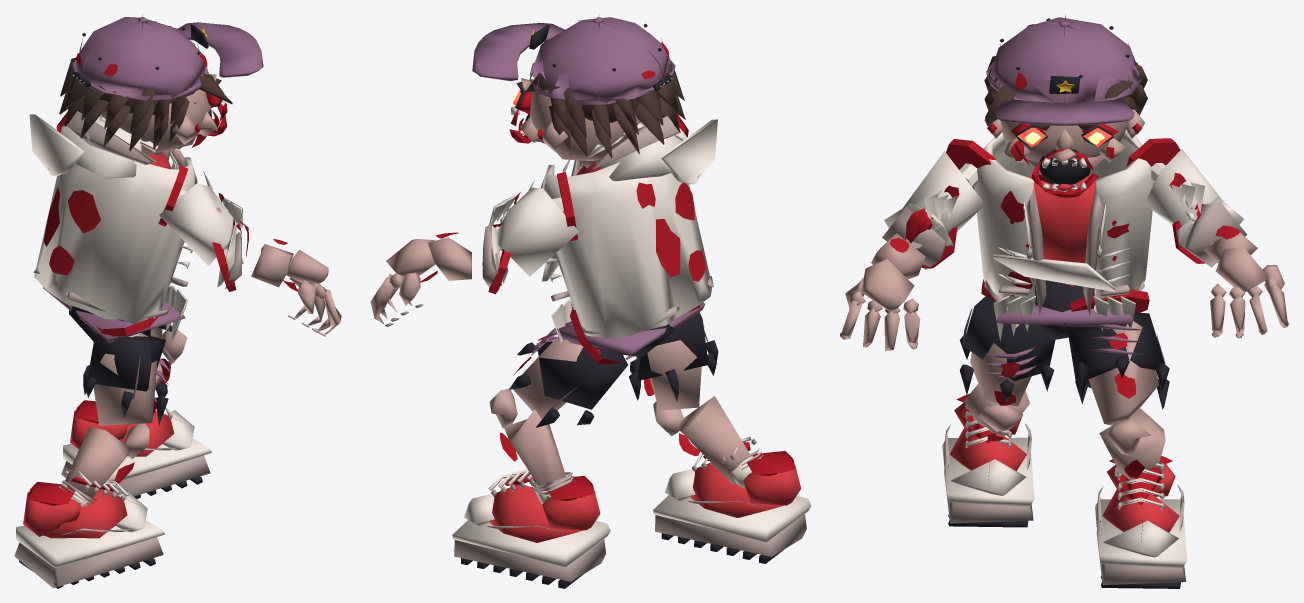
Rendered from inf.sprinter.lod1.glb.
3 views of the same model, side by side, from view 1: azimuth 30°, elevation 25°; view 2: azimuth 150°, elevation 25°; view 3: azimuth 270°, elevation 25° (orthographic). The views are drawn at different scales.
Parts seen in each view (by area): view 1: torso, head, footR, footL, legR, armR, shinR, handR, foreArmR, hip, shinL, stump_armR (+2 smaller); view 2: torso, head, footL, footR, legL, legR, armL, shinR, shinL, handL, foreArmL, hip (+2 smaller); view 3: torso, head, footL, footR, legL, legR, handR, handL, foreArmR, armR, hip, armL (+6 smaller).
Boxes of the visible parts, box(x1,y1,x2,y2) form: torso: box(29, 111, 212, 341); head: box(59, 14, 263, 161); footR: box(14, 469, 164, 588); footL: box(61, 397, 211, 498); legR: box(83, 332, 174, 425); armR: box(159, 183, 242, 265); shinR: box(58, 423, 149, 507); handR: box(283, 249, 341, 336); foreArmR: box(217, 220, 293, 288); hip: box(43, 287, 185, 342); shinL: box(128, 324, 186, 425); stump_armR: box(158, 166, 188, 226); torso: box(528, 116, 717, 342); head: box(472, 15, 685, 168); footL: box(452, 469, 610, 588); footR: box(653, 437, 811, 563); legL: box(509, 328, 627, 427); legR: box(626, 311, 718, 410); armL: box(489, 187, 578, 276); shinR: box(653, 396, 763, 488); shinL: box(489, 388, 574, 505); handL: box(370, 239, 437, 326); foreArmL: box(428, 222, 508, 287); hip: box(557, 302, 705, 356); torso: box(974, 130, 1153, 341); head: box(984, 14, 1147, 198); footL: box(1095, 456, 1187, 588); footR: box(942, 394, 1034, 527); legL: box(1068, 312, 1169, 425); legR: box(959, 296, 1055, 406); handR: box(840, 259, 920, 350); handL: box(1210, 247, 1289, 338); foreArmR: box(871, 203, 953, 279); armR: box(902, 151, 983, 233); hip: box(994, 280, 1132, 339); armL: box(1144, 149, 1222, 230).
Size of the model in its own units: 0.8746 by 1.52 by 1.17.
